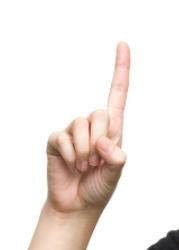up: (41, 37, 137, 210)
